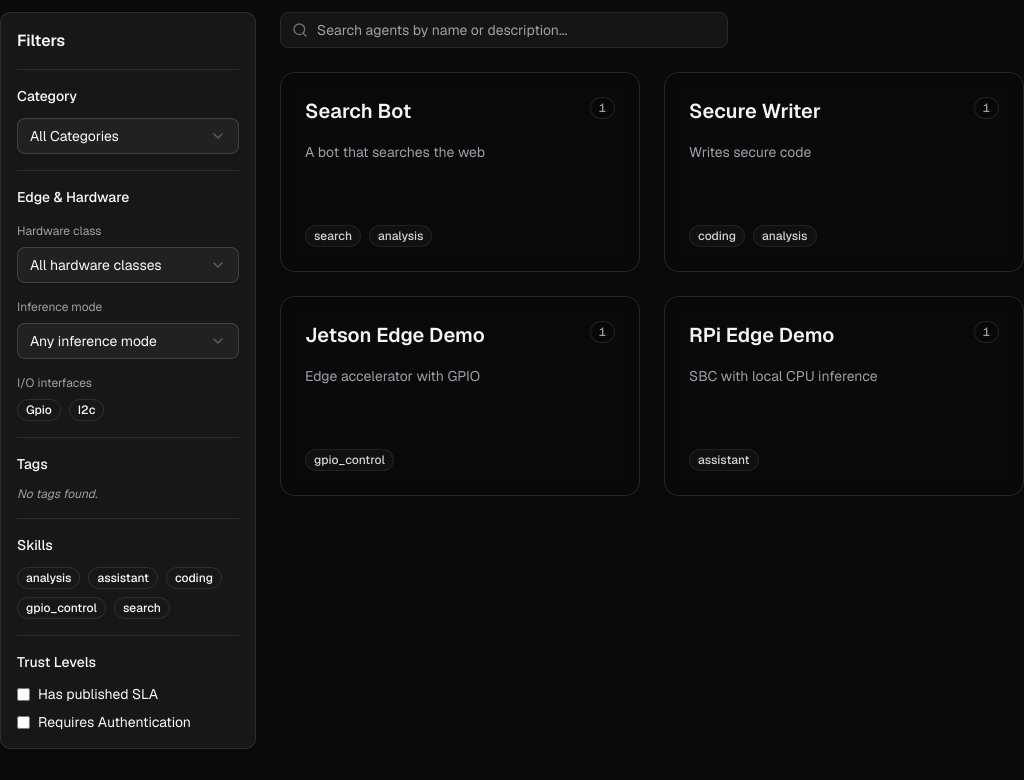
Scenario: BrowseContent › filters agents by Authentication requirement
Click the checkbox labelled "Requires Authentication": (24,722) [17, 716, 30, 728]
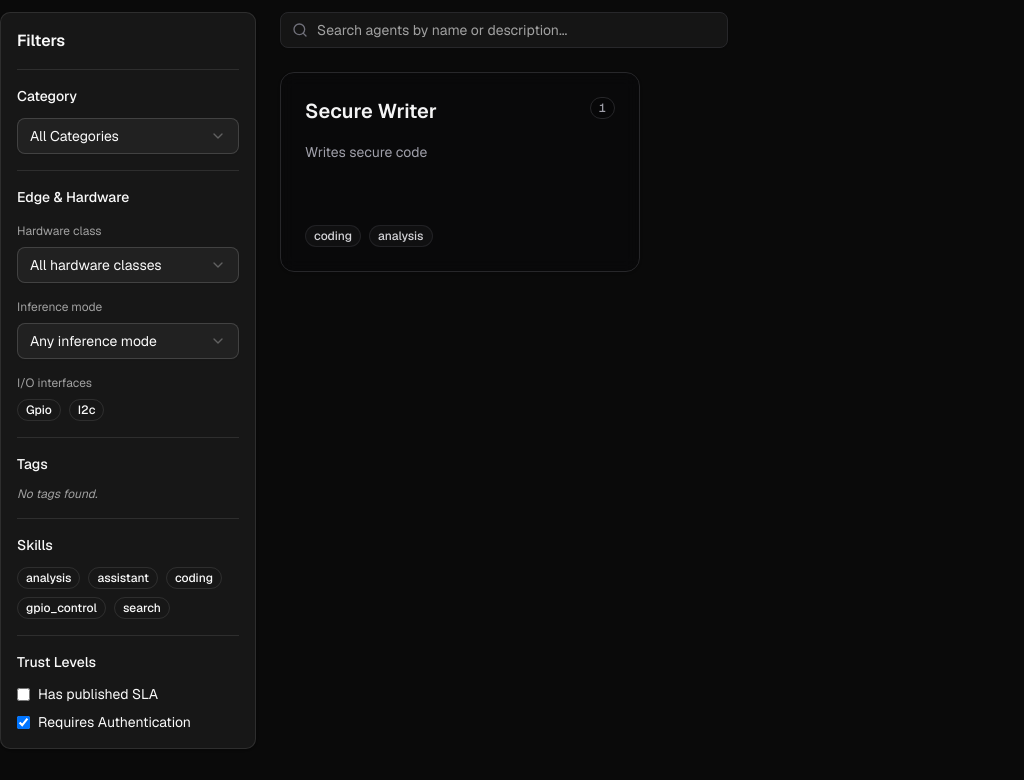
Expected: the text "Secure Writer" is shown, [305, 97, 437, 125]
Result: the link "Search Bot" is gone
